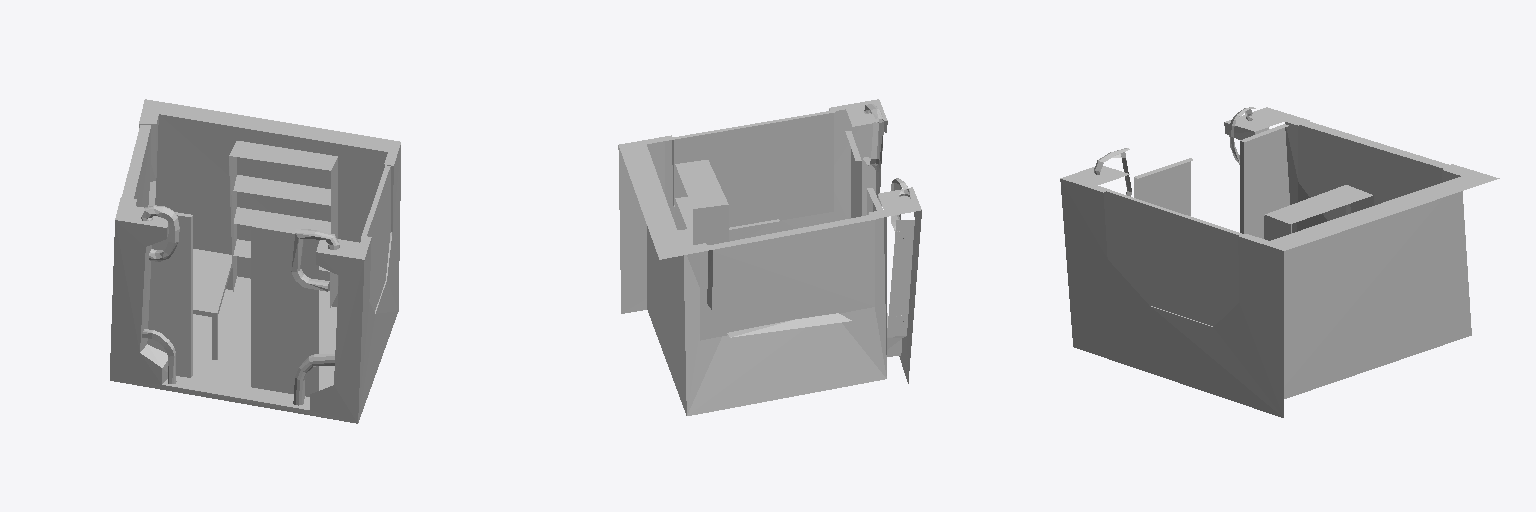
File: germetik_camera_brake.obj
The picture shows the model from 3 angles: view 1: azimuth 30°, elevation 25°; view 2: azimuth 150°, elevation 25°; view 3: azimuth 270°, elevation 25°; orthographic projection.
Visible parts, largest first — view 1: germetik_camera_brake; view 2: germetik_camera_brake; view 3: germetik_camera_brake.
Part boxes in pixels (bbox=[...]): germetik_camera_brake: bbox=[110, 99, 400, 423]; germetik_camera_brake: bbox=[618, 99, 921, 415]; germetik_camera_brake: bbox=[1060, 107, 1499, 417].
Size of the model in its own units: 8.67 by 5.16 by 11.18.